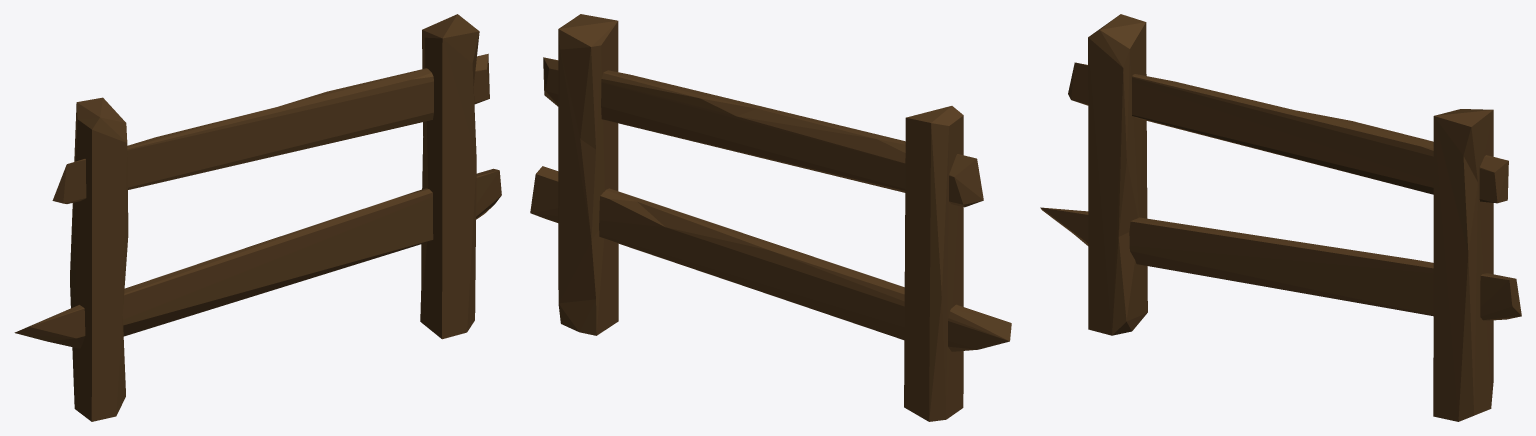
File: SM_fence_02.fbx
The picture shows the model from 3 angles, left to right: view 1: azimuth 30°, elevation 25°; view 2: azimuth 150°, elevation 25°; view 3: azimuth 330°, elevation 25°; orthographic projection.
Parts seen in each view (by area): view 1: Object2152; view 2: Object2152; view 3: Object2152.
Boxes of the visible parts, box(x1,y1,x2,y2) form: Object2152: box(14, 14, 501, 421); Object2152: box(530, 14, 1011, 421); Object2152: box(1040, 14, 1521, 421).
Bounding box in the file's own units: 72.9 × 43.7 × 6.99.
